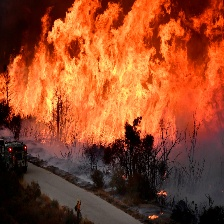fire: (2, 2, 223, 142), (153, 190, 169, 198), (147, 212, 160, 219)
smoke: (179, 144, 223, 207), (39, 144, 94, 182)
